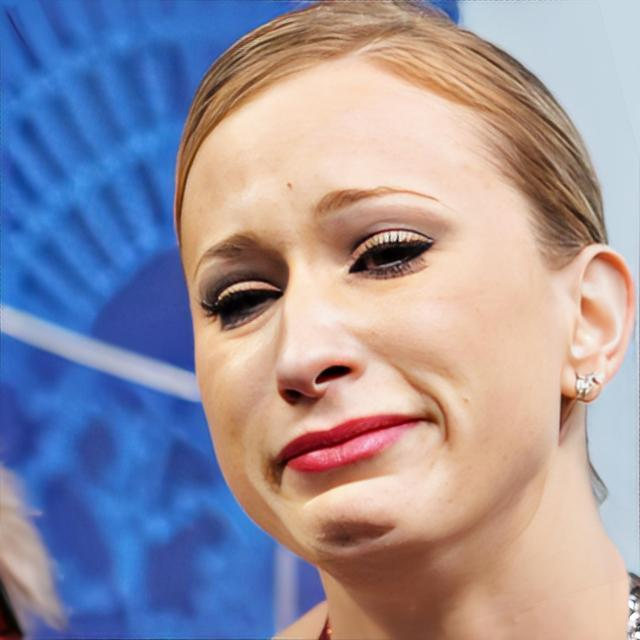sad: (176, 61, 562, 584)
